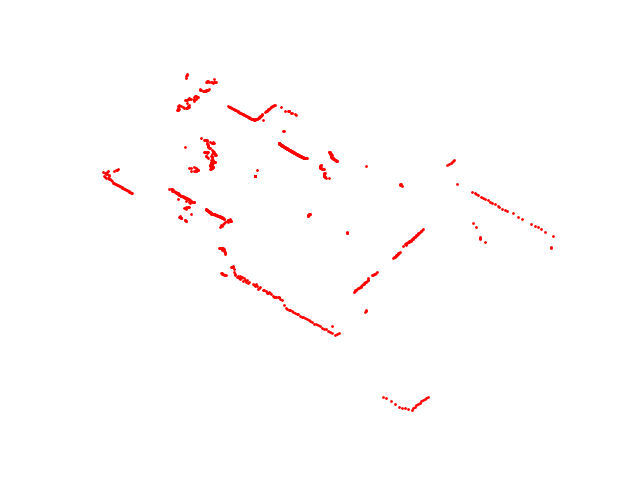person: (215, 244, 229, 282), (317, 161, 333, 183)
